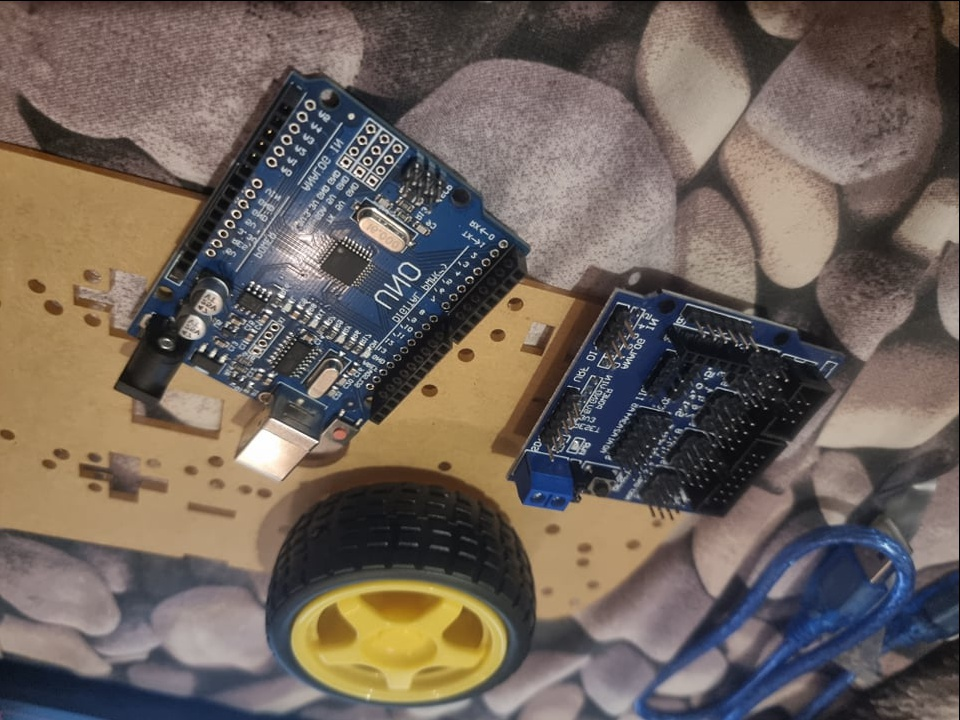5V EXPANSION: (509, 282, 854, 520)
UNO R3: (118, 75, 531, 482)
